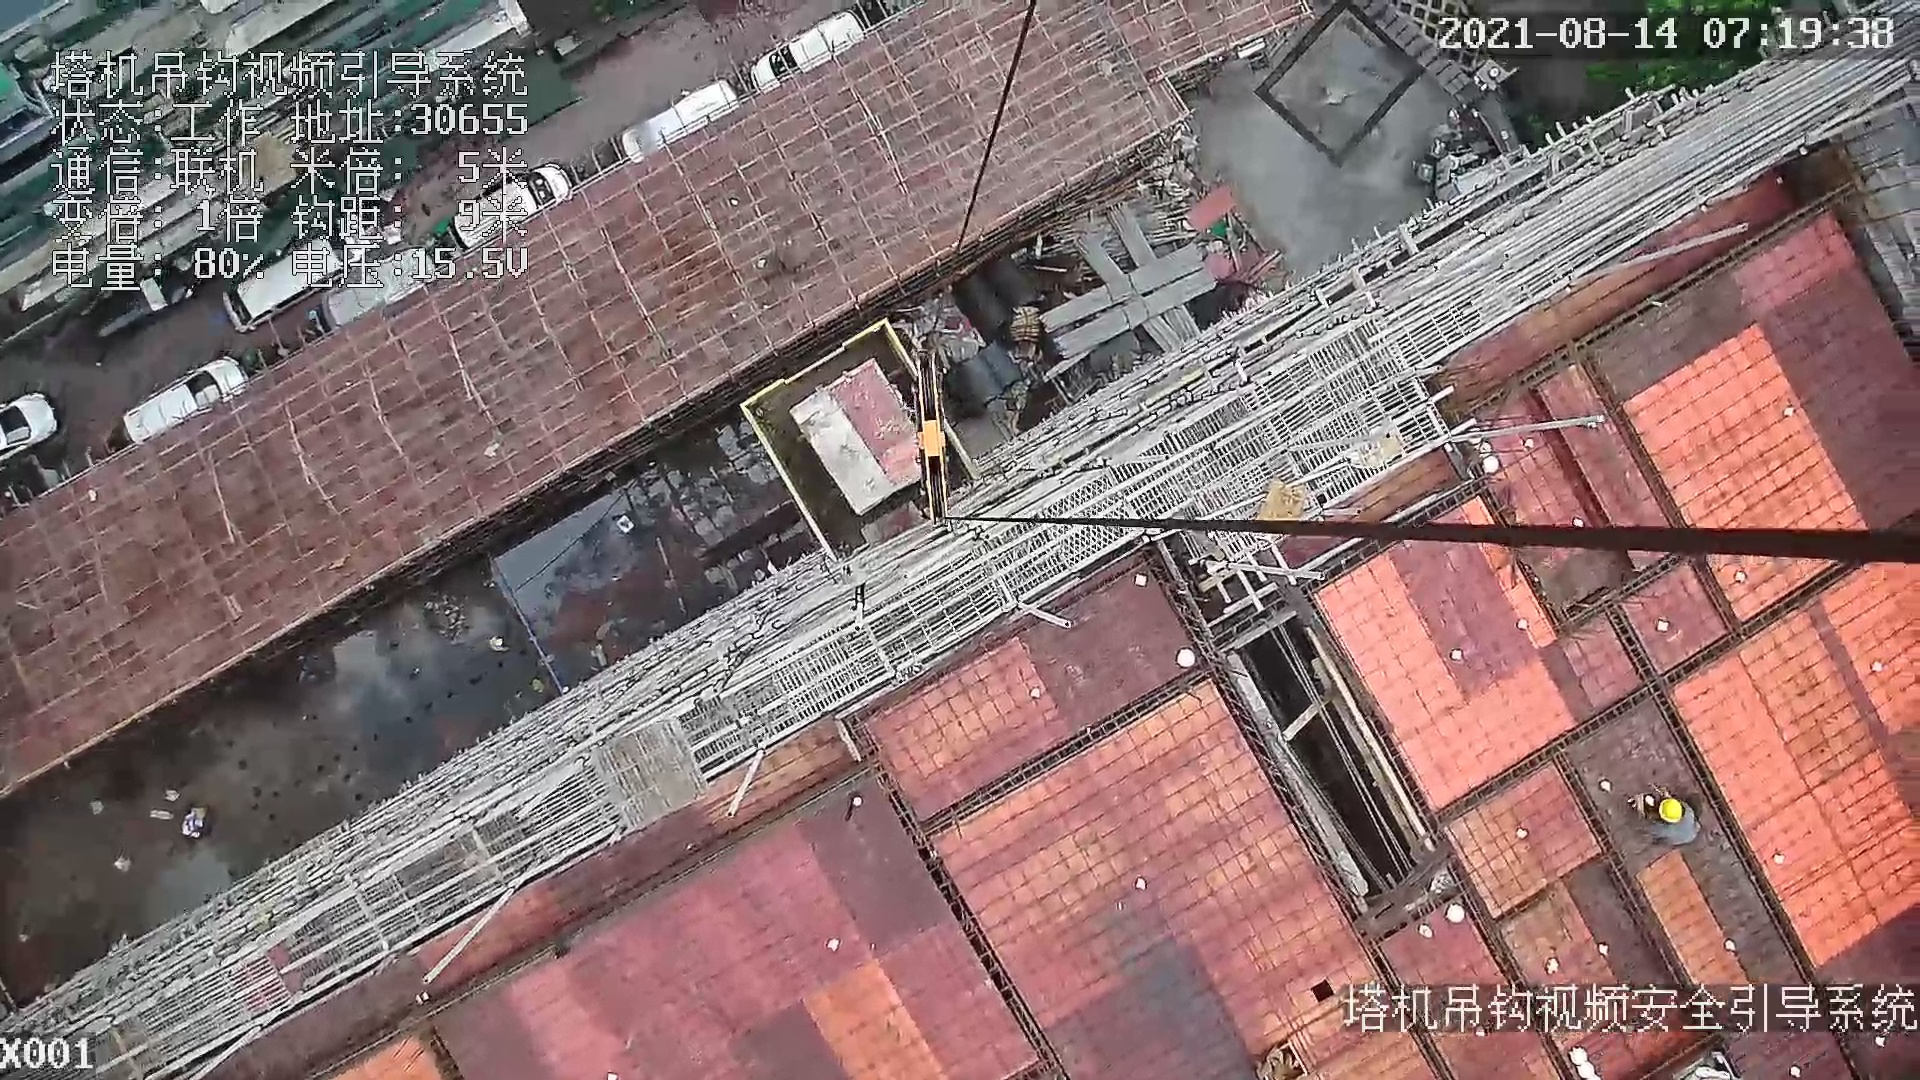helmet: (1652, 794, 1688, 828)
hook: (905, 336, 962, 537)
person: (1627, 776, 1709, 849)
